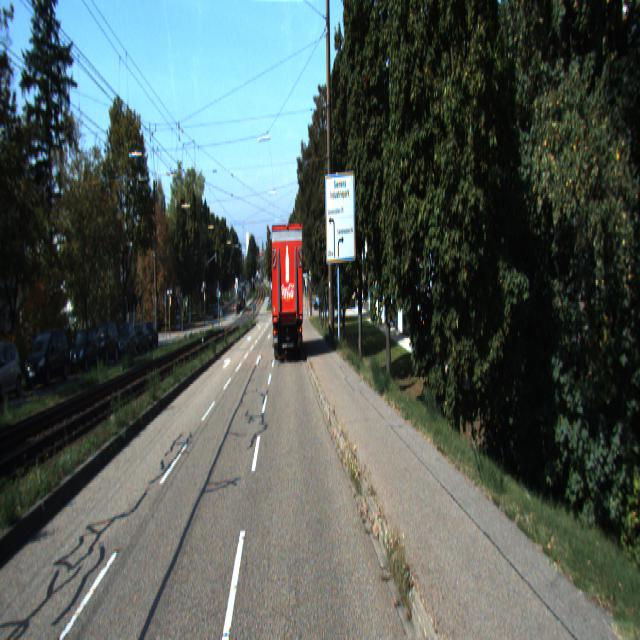Car: (270, 224, 305, 367), (24, 330, 72, 392), (68, 326, 100, 372), (0, 336, 23, 399), (90, 323, 119, 366), (114, 322, 136, 362)
